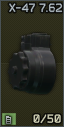AK 7.62x39 X-47 50-round drum magazine: (0, 0, 64, 127)
